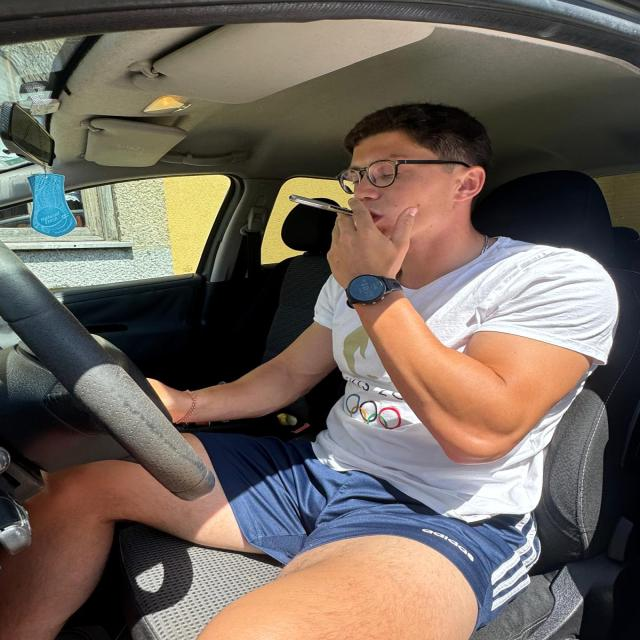Cigarette: (284, 183, 412, 245)
